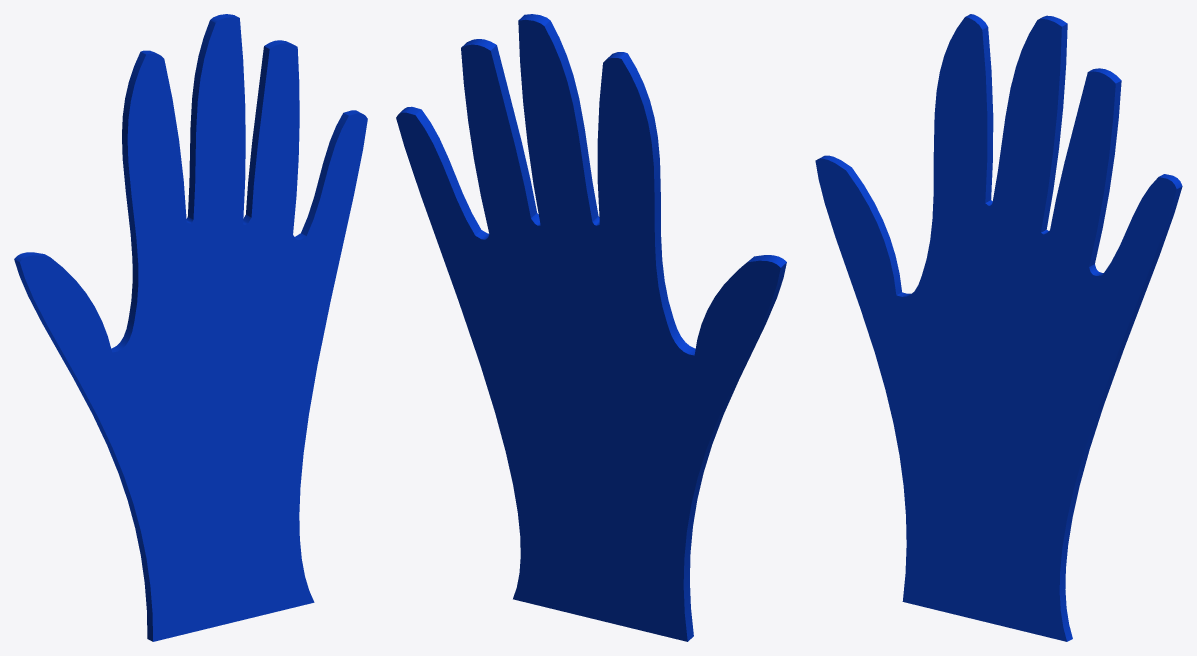
3 renders of one model, left to right at view 1: azimuth 30°, elevation 25°; view 2: azimuth 150°, elevation 25°; view 3: azimuth 330°, elevation 25°, orthographic. The views are drawn at different scales.
Parts seen in each view (by area): view 1: ______; view 2: ______; view 3: ______.
Boxes of the visible parts, x1,y1,x2,y2 form: ______: [14, 14, 367, 641]; ______: [396, 14, 786, 641]; ______: [815, 14, 1182, 641].
Bounding box in the file's own units: 353 × 550 × 70.76.
